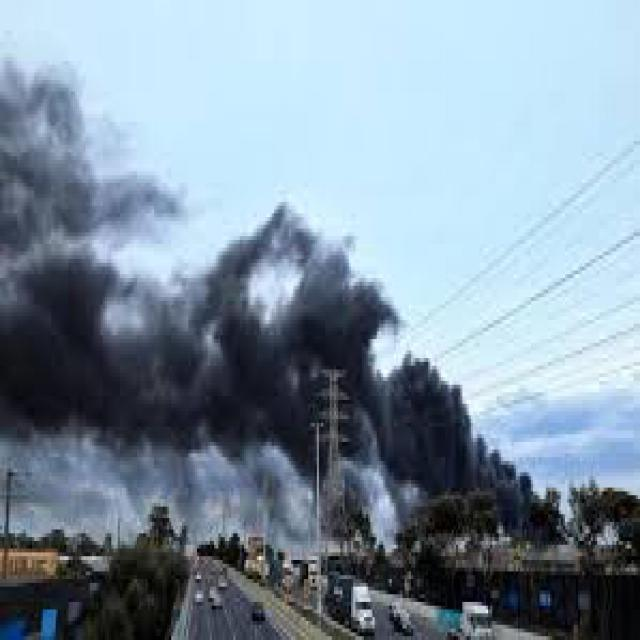Smoke: (0, 168, 427, 503)
